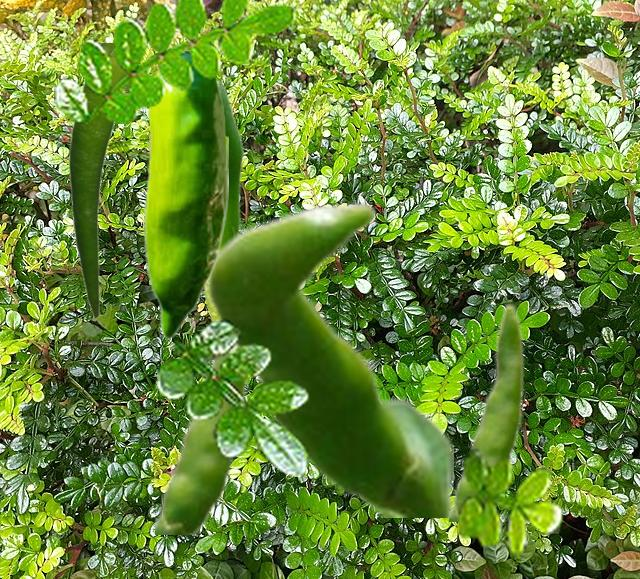green_chili: (205, 200, 452, 516), (143, 52, 227, 338), (155, 319, 249, 533), (449, 302, 524, 520), (68, 43, 123, 318), (202, 81, 245, 353)
